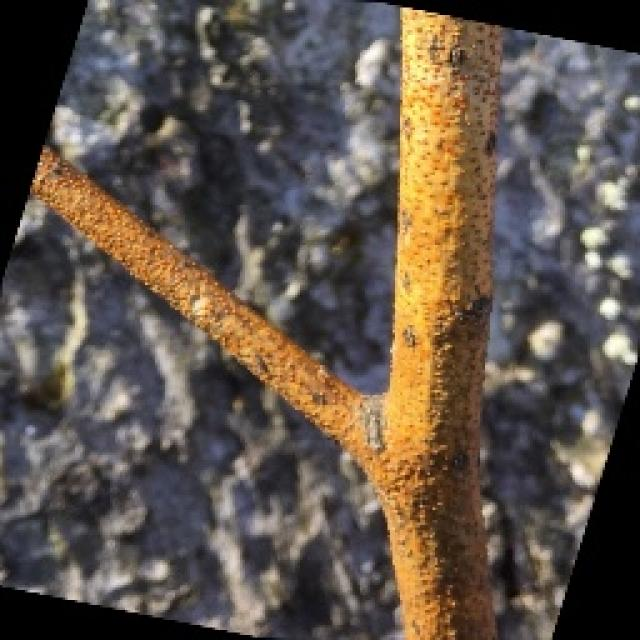Golden_canker: (21, 8, 618, 640)
